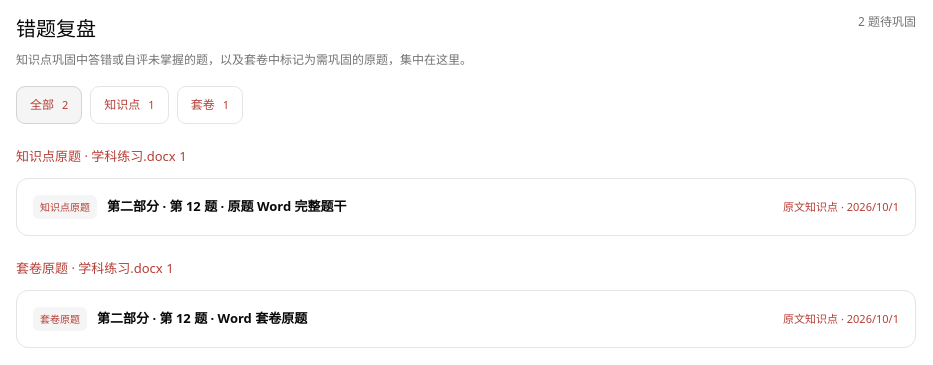
Test: filters original knowledge and paper mistakes by their saved context
Click the button "套卷 1" at (210, 105), box 177,86 -> 243,124
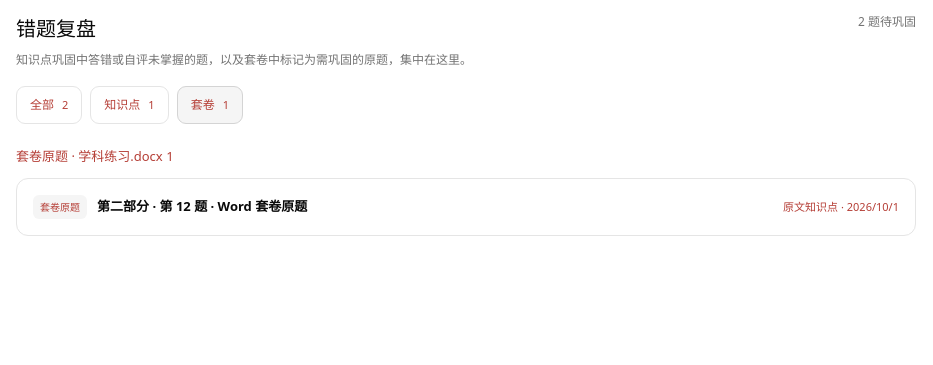
Expected: the text "Word 套卷原题" is shown, 218,197 -> 307,215
Expected: the text "原题 Word 完整题干" is gone
